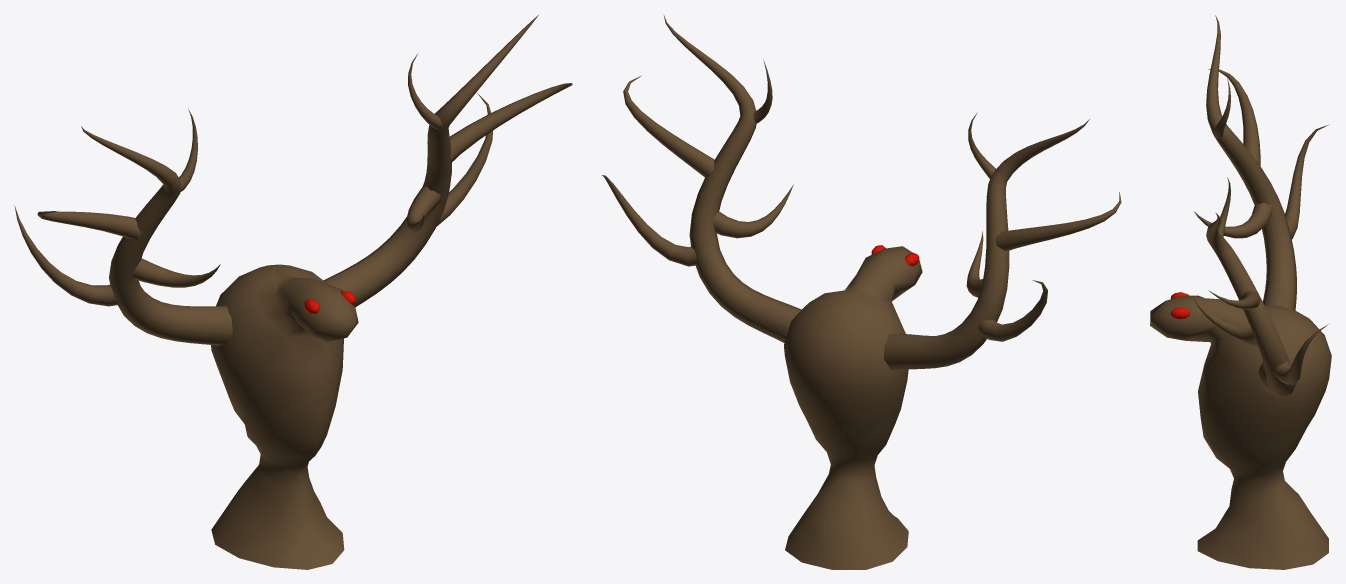
Rendered from MudMonster.fbx.
The picture shows the model from 3 angles, left to right: view 1: azimuth 30°, elevation 25°; view 2: azimuth 150°, elevation 25°; view 3: azimuth 270°, elevation 25°; orthographic projection. The views are drawn at different scales.
Parts seen in each view (by area): view 1: Mud Monster, MudMonsterRArm, MudMonsterLArm; view 2: Mud Monster, MudMonsterLArm, MudMonsterRArm; view 3: Mud Monster, MudMonsterRArm, MudMonsterLArm.
Boxes of the visible parts, x1=… form: Mud Monster: x1=211, y1=264, x2=358, y2=569; MudMonsterRArm: x1=14, y1=109, x2=232, y2=345; MudMonsterLArm: x1=323, y1=15, x2=572, y2=307; Mud Monster: x1=784, y1=245, x2=922, y2=569; MudMonsterLArm: x1=602, y1=15, x2=801, y2=342; MudMonsterRArm: x1=884, y1=112, x2=1121, y2=369; Mud Monster: x1=1150, y1=292, x2=1331, y2=569; MudMonsterRArm: x1=1194, y1=15, x2=1328, y2=310; MudMonsterLArm: x1=1193, y1=177, x2=1328, y2=397.
Size of the model in its own units: 642 by 568 by 216.
